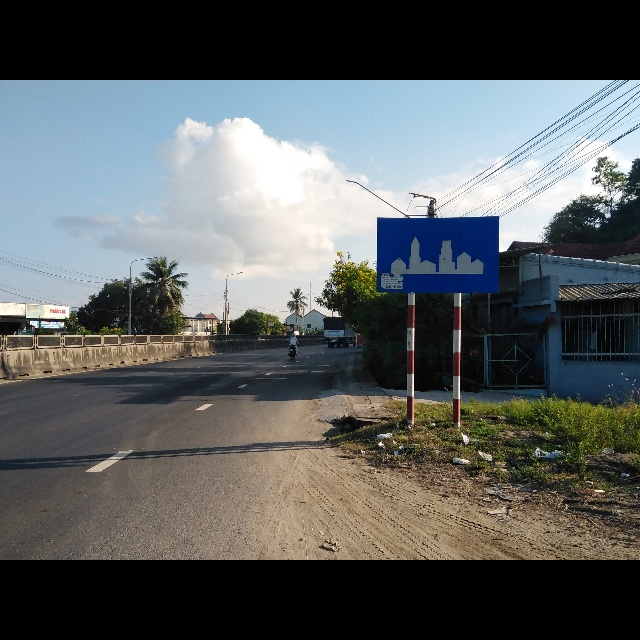Khu đông dân cư: (375, 216, 498, 295)
